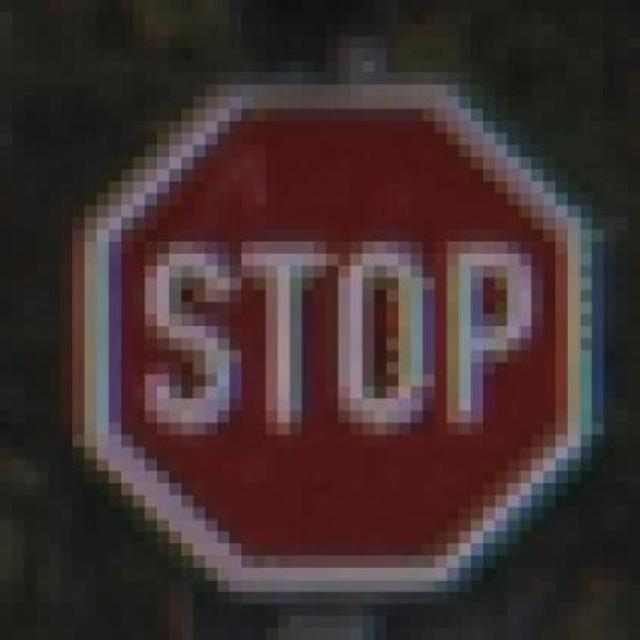Stop_Sign: (72, 61, 616, 604)
